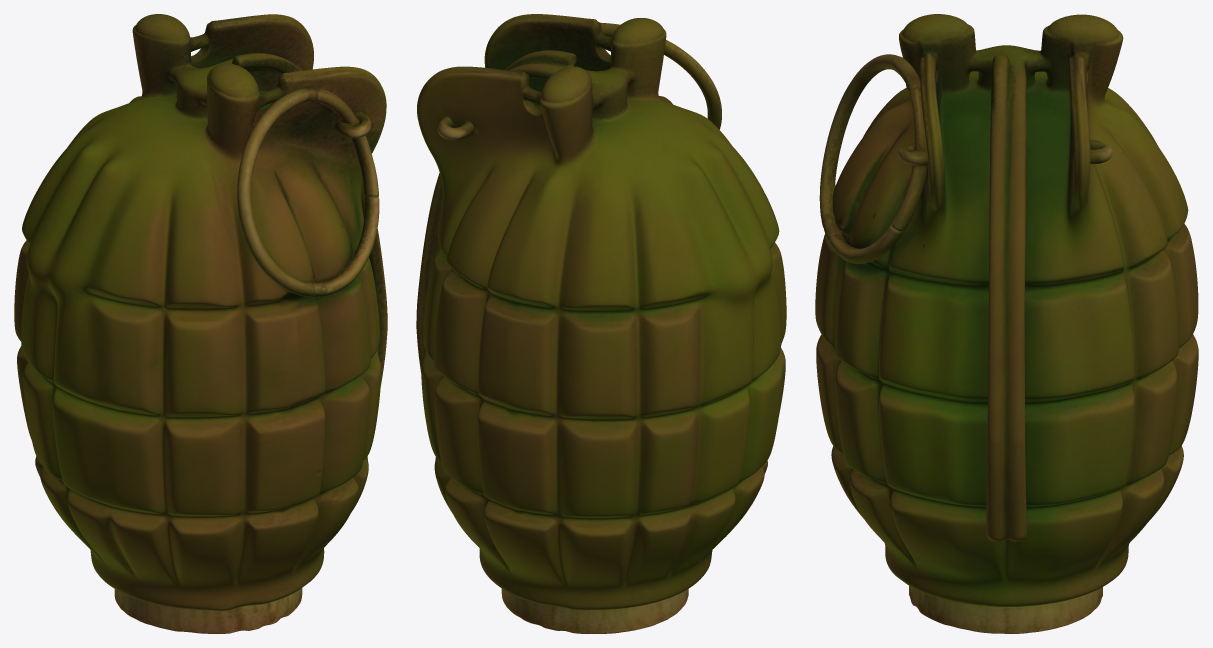
The picture shows the model from 3 angles, left to right: view 1: azimuth 30°, elevation 25°; view 2: azimuth 150°, elevation 25°; view 3: azimuth 270°, elevation 25°; orthographic projection. The views are drawn at different scales.
Parts seen in each view (by area): view 1: node_0; view 2: node_0; view 3: node_0.
Part boxes in pixels (left/top/right/bottom): node_0: left=14, top=14, right=387, bottom=633; node_0: left=416, top=14, right=786, bottom=633; node_0: left=815, top=14, right=1198, bottom=633.
Bounding box in the file's own units: 0.7396 × 1.15 × 0.6977.
1 material, 1 textured.
